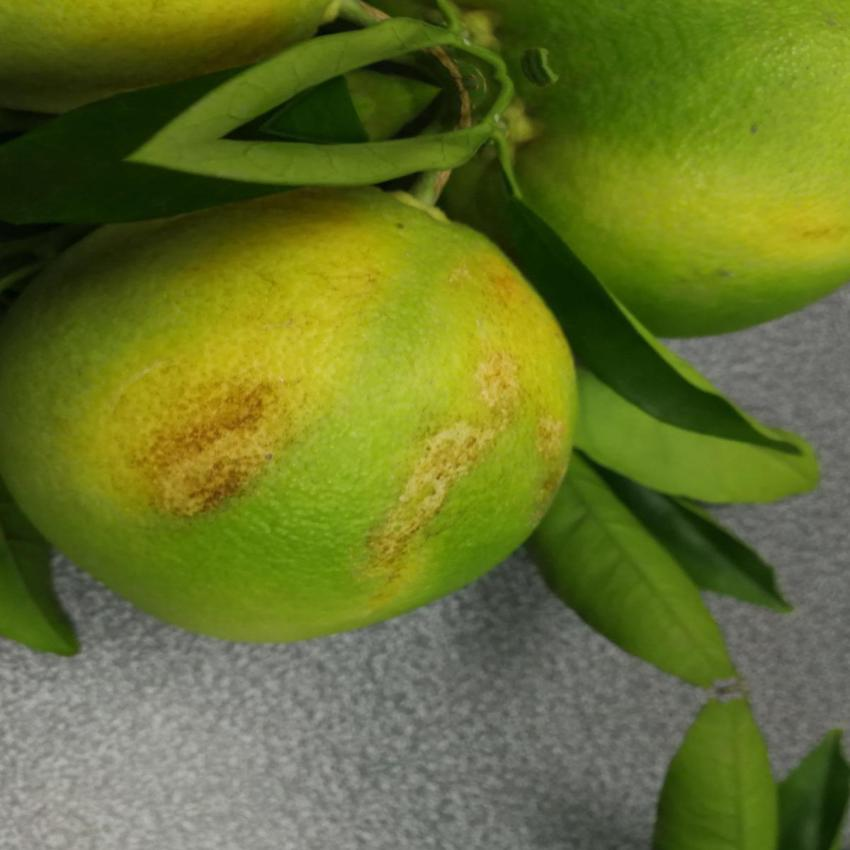Mal estado: (0, 168, 592, 658)
